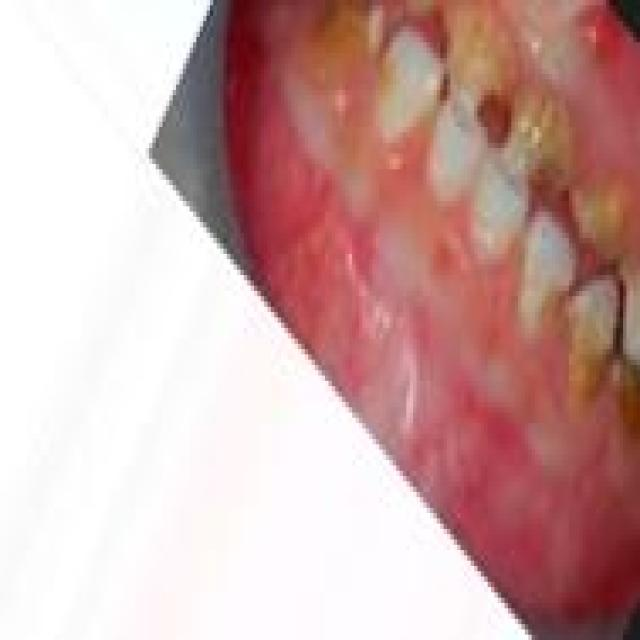caries: (437, 0, 518, 132), (497, 82, 568, 200), (568, 274, 628, 412), (569, 161, 633, 266), (518, 247, 572, 351)
